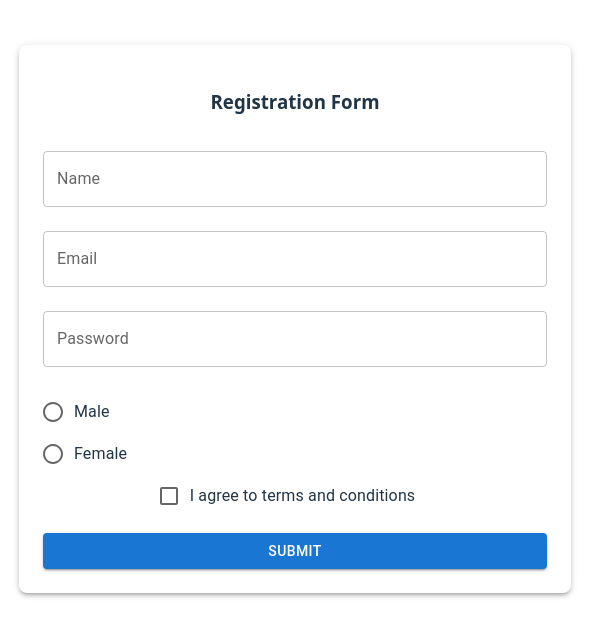
Scenario: Registration Form Component › SHOWS ERROR for invalid email
Type "Prince" into the field labelled "Name".
click(295, 178); type("Prince")  # box [43,150,547,206]
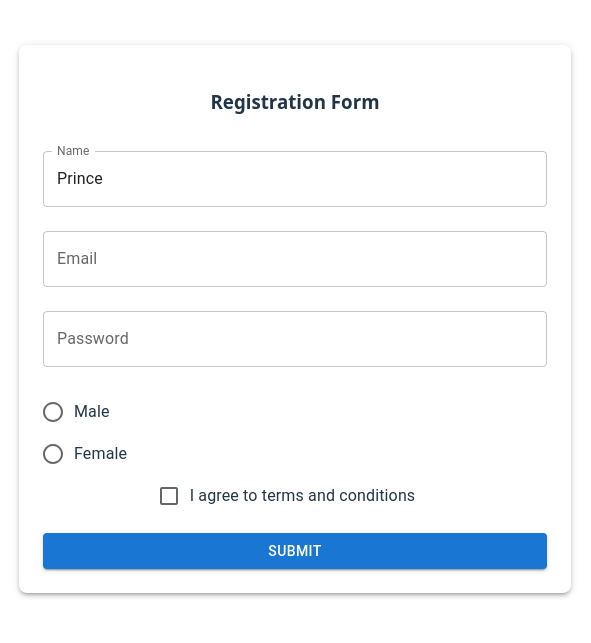
Type "abc" into the field labelled "Email".
click(295, 258); type("abc")  # box [43,230,547,286]
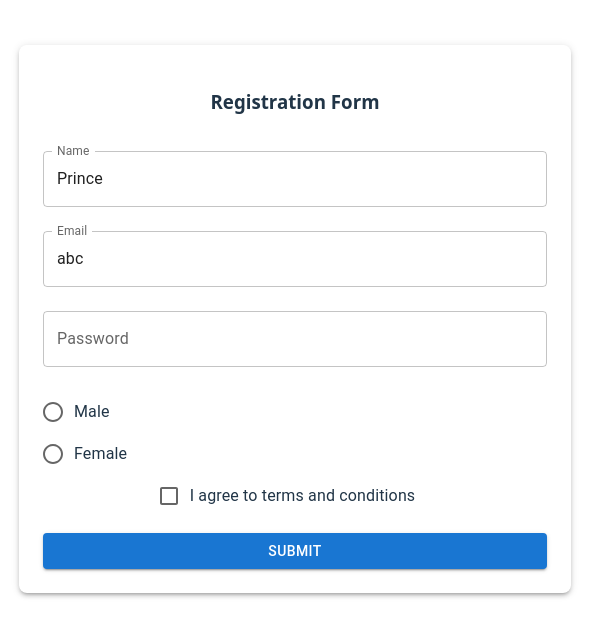
Type "123456" into the password field labelled "Password".
click(295, 338); type("123456")  # box [43,310,547,366]
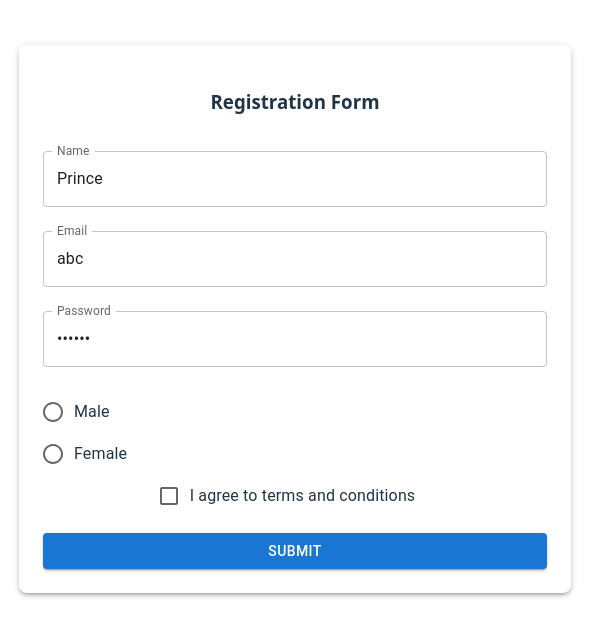
Click the button "Submit".
click(295, 551)  # box [43,532,547,569]
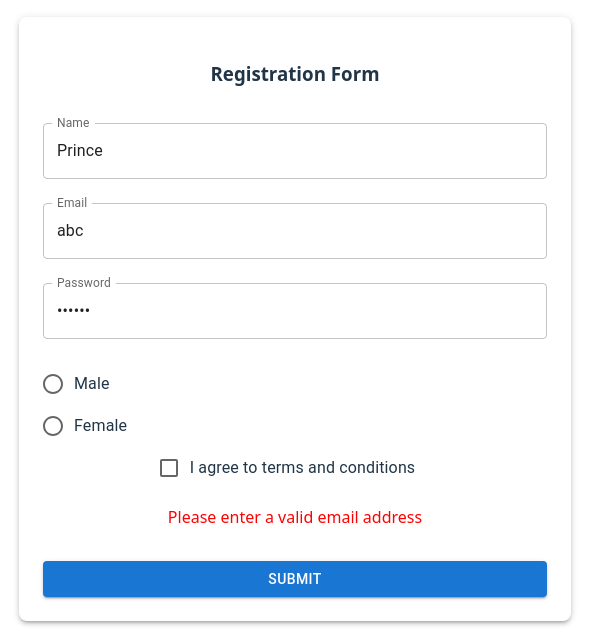
Expected: the text "Please enter a valid email address" is shown, [168,506,422,528]
